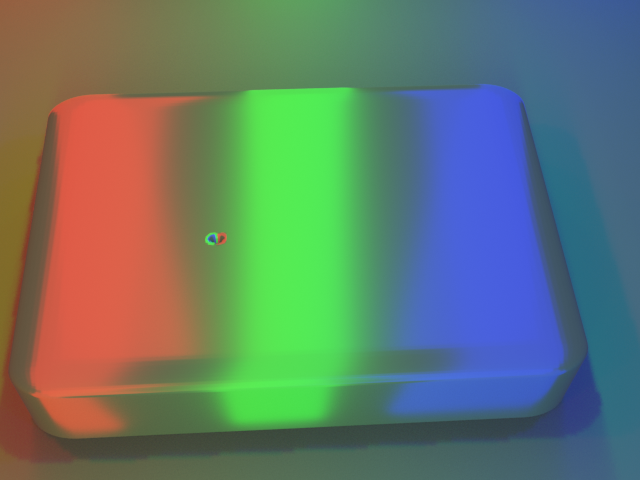dent: (183, 218, 226, 263)
